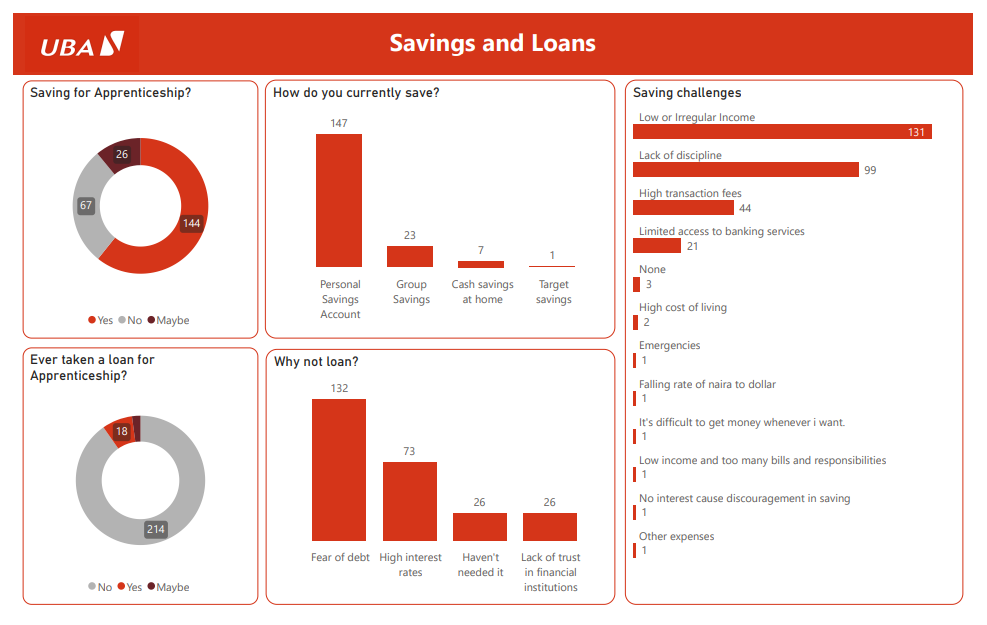

This screenshot's page, from the dashboard's own definition file:
{"tool":"powerbi","page":{"name":"Savings and Loans","canvas":[1280,800],"ordinal":1},"visuals":[{"type":"shape","box":[0,0,1280,720],"z":0},{"type":"shape","box":[0,0,1280,82.8],"z":1000},{"type":"image","box":[12.3,0,159.4,82.8],"z":2000},{"type":"shape","box":[0,82.8,1280,717.4],"z":3000},{"type":"donutChart","title":"Saving for Apprenticeship?","fields":{"Category":["Survey.Do you currently save money for apprenticeships-related expenses (e.g settlement or training costs):"],"Y":["CountNonNull(Survey.Do you currently save money for apprenticeships-related expenses (e.g settlement or training costs):"]},"box":[13.3,90.4,314.1,343.7],"z":4000},{"type":"textbox","box":[389.4,0,501.3,82.8],"z":5000},{"type":"clusteredColumnChart","title":"How do you currently save?","fields":{"Category":["Survey.If yes, how do you currently save?"],"Y":["CountNonNull(Survey.If yes, how do you currently save?)"]},"box":[336.3,88.9,466.7,345.2],"z":6000},{"type":"clusteredBarChart","title":"Saving challenges","fields":{"Category":["Saving challenges.What challenges do you face when trying to save money?  (Select all that apply)"],"Y":["Survey.Label","CountNonNull(Saving challenges.What challenges do you face when trying to save money?  (Select all that apply))"]},"box":[815.9,88.9,450.8,700],"z":7000},{"type":"clusteredColumnChart","title":"Why not loan?","fields":{"Category":["Why not loan.If No, Why Not?"],"Y":["CountNonNull(Why not loan.If No, Why Not?)"]},"box":[336.5,447.6,466.7,341.3],"z":8000},{"type":"donutChart","title":"Ever taken a loan for Apprenticeship?","fields":{"Category":["Survey.Have you ever taken Loan for apprenticeship- related needs?"],"Y":["CountNonNull(Survey.Have you ever taken Loan for apprenticeship- related needs?)"]},"box":[12.7,446,314.3,342.9],"z":9000}]}

Visuals, with their boxes in screenshot pixels (x1, y1, x2, y2), scaled from the page's 1280x800 canvas onto the 987x625 screenshot:
shape: crop(0, 0, 986, 562)
shape: crop(0, 0, 986, 65)
image: crop(9, 0, 132, 65)
shape: crop(0, 65, 986, 624)
"Saving for Apprenticeship?" donutChart: crop(10, 71, 252, 339)
textbox: crop(300, 0, 687, 65)
"How do you currently save?" clusteredColumnChart: crop(259, 69, 619, 339)
"Saving challenges" clusteredBarChart: crop(629, 69, 977, 616)
"Why not loan?" clusteredColumnChart: crop(259, 350, 619, 616)
"Ever taken a loan for Apprenticeship?" donutChart: crop(10, 348, 252, 616)
